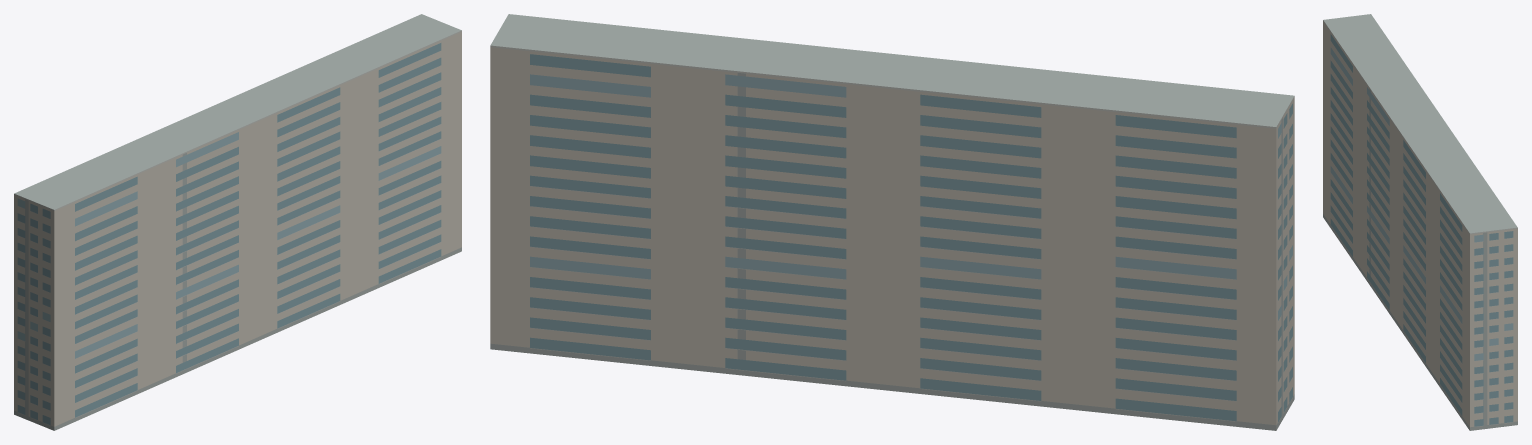
File: residential-2c40a11a-5ac8-4782-b79a-5837e7fb0bcb.glb
The picture shows the model from 3 angles, left to right: view 1: azimuth 30°, elevation 25°; view 2: azimuth 150°, elevation 25°; view 3: azimuth 270°, elevation 25°; orthographic projection. The views are drawn at different scales.
Parts seen in each view (by area): view 1: residential-2c40a11a-5ac8-4782-b79a-5837e7fb0bcb.tmp; view 2: residential-2c40a11a-5ac8-4782-b79a-5837e7fb0bcb.tmp; view 3: residential-2c40a11a-5ac8-4782-b79a-5837e7fb0bcb.tmp.
Boxes of the visible parts, bbox=[...] form: residential-2c40a11a-5ac8-4782-b79a-5837e7fb0bcb.tmp: bbox=[14, 14, 461, 430]; residential-2c40a11a-5ac8-4782-b79a-5837e7fb0bcb.tmp: bbox=[490, 14, 1294, 430]; residential-2c40a11a-5ac8-4782-b79a-5837e7fb0bcb.tmp: bbox=[1323, 14, 1517, 430].
Bounding box in the file's own units: 109 × 45.75 × 40.88.
